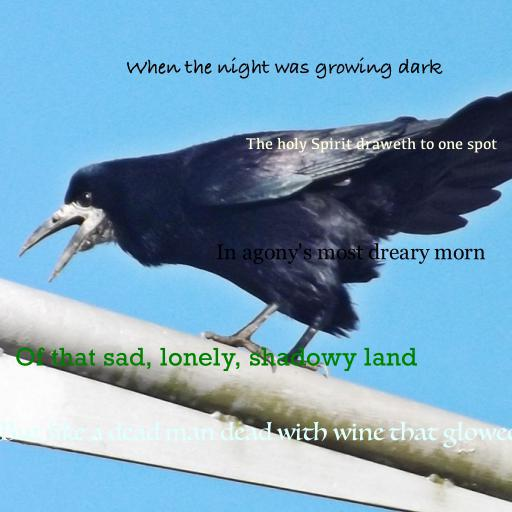Bradley Hand: (126, 57, 442, 79)
Georgia: (216, 243, 486, 264)
Kefa: (245, 137, 497, 153)
Luminari: (0, 421, 512, 448)
Rockwell: (15, 347, 417, 372)
